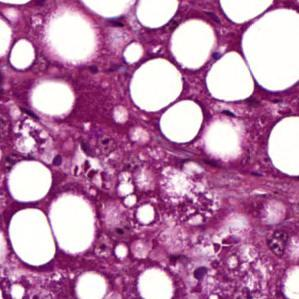steatosis: (50, 193, 104, 254), (131, 61, 182, 109), (5, 159, 58, 204), (12, 40, 37, 68)
